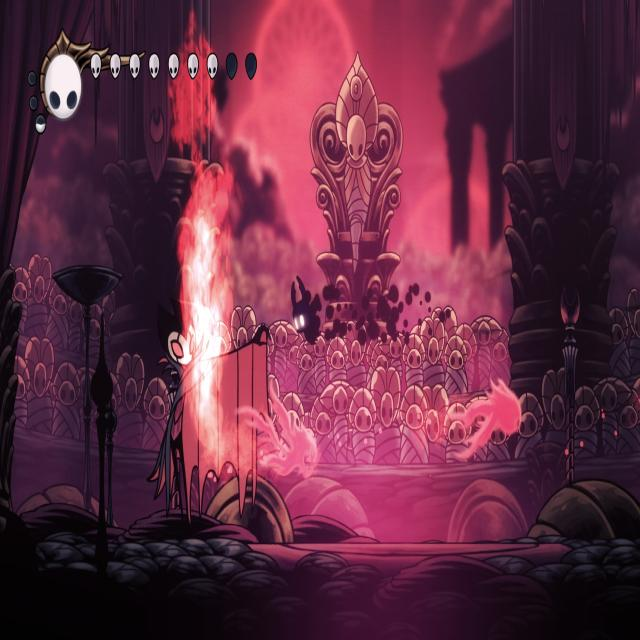Fire Bat: (241, 372, 319, 478), (449, 372, 523, 464)
Open Cloak: (146, 295, 278, 543)
Player: (287, 273, 323, 350)
